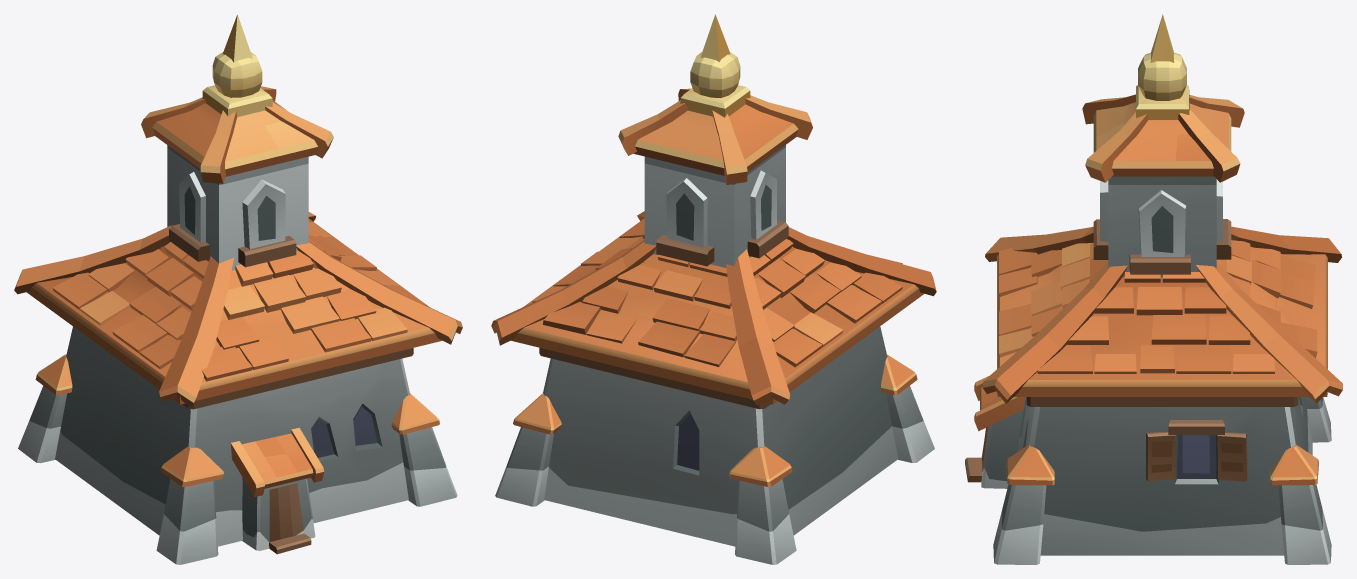
File: snow-lodge-b.obj
The picture shows the model from 3 angles, left to right: view 1: azimuth 30°, elevation 25°; view 2: azimuth 150°, elevation 25°; view 3: azimuth 270°, elevation 25°; orthographic projection. The views are drawn at different scales.
Visible parts, largest first — view 1: snow-lodge-b; view 2: snow-lodge-b; view 3: snow-lodge-b.
Part boxes in pixels (x1,y1,x2,y2): snow-lodge-b: (14, 14, 462, 564); snow-lodge-b: (491, 14, 936, 564); snow-lodge-b: (965, 14, 1342, 564).
Bounding box in the file's own units: 6.38 × 9.31 × 6.65.
1 material, 1 textured.
